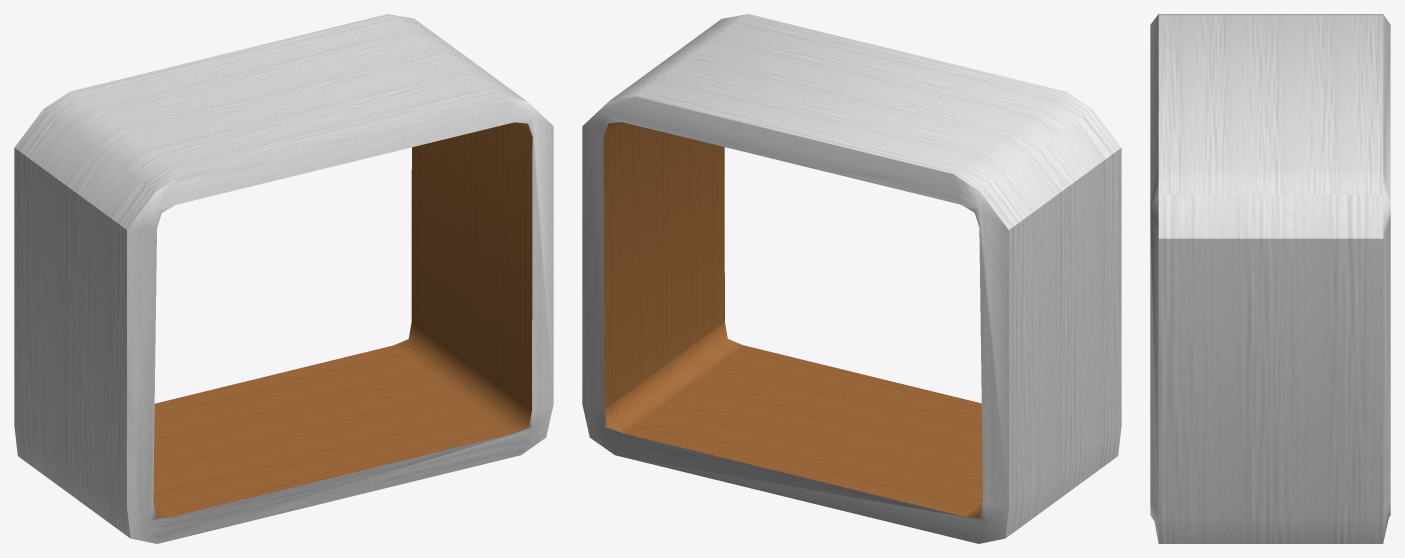
File: Wall_Shelf_02_K.FBX
3 views of the same model, side by side, from view 1: azimuth 30°, elevation 25°; view 2: azimuth 150°, elevation 25°; view 3: azimuth 270°, elevation 25° (orthographic).
Visible parts, largest first — view 1: Wall_Shelf_02; view 2: Wall_Shelf_02; view 3: Wall_Shelf_02.
Boxes of the visible parts, box(x1,y1,x2,y2) form: Wall_Shelf_02: box(14, 14, 553, 543); Wall_Shelf_02: box(582, 14, 1121, 543); Wall_Shelf_02: box(1150, 14, 1390, 543).
Size of the model in its own units: 120 by 98.08 by 58.85.
